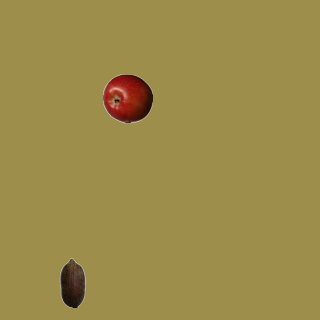Apple Braeburn: (102, 73, 152, 123)
Nut Pecan: (47, 257, 97, 307)
